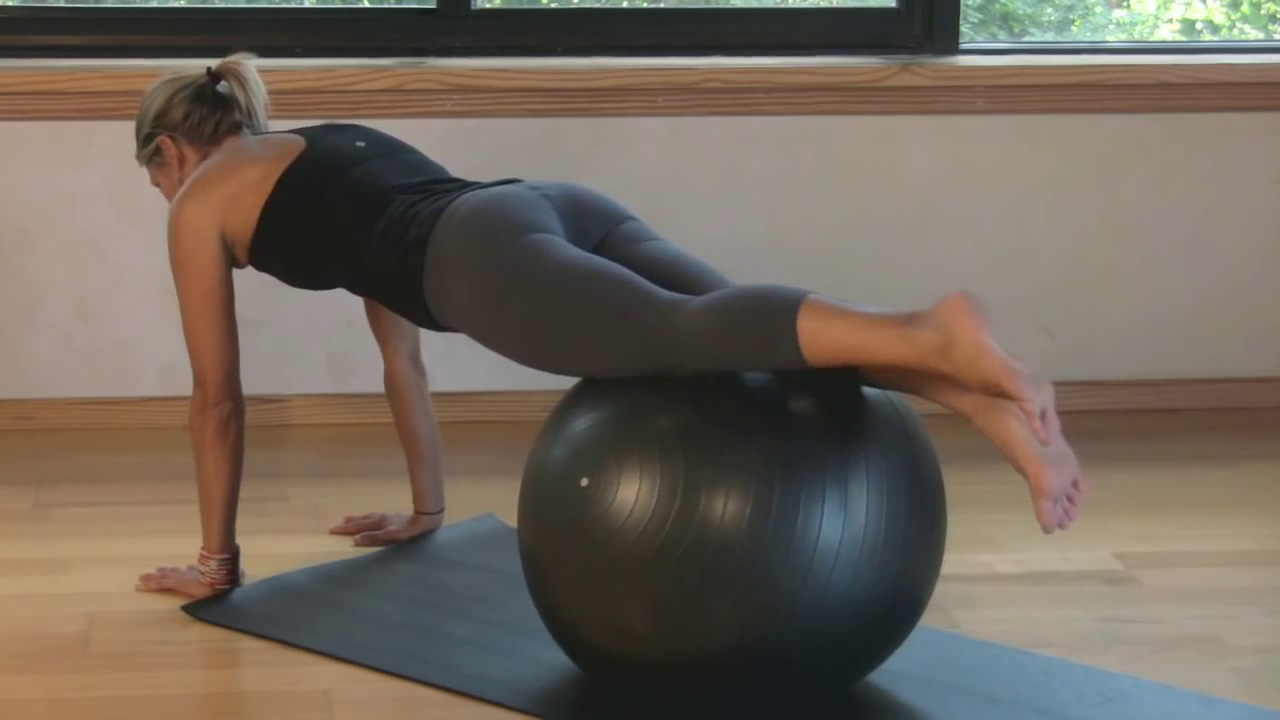yogaball: (513, 371, 956, 707)
